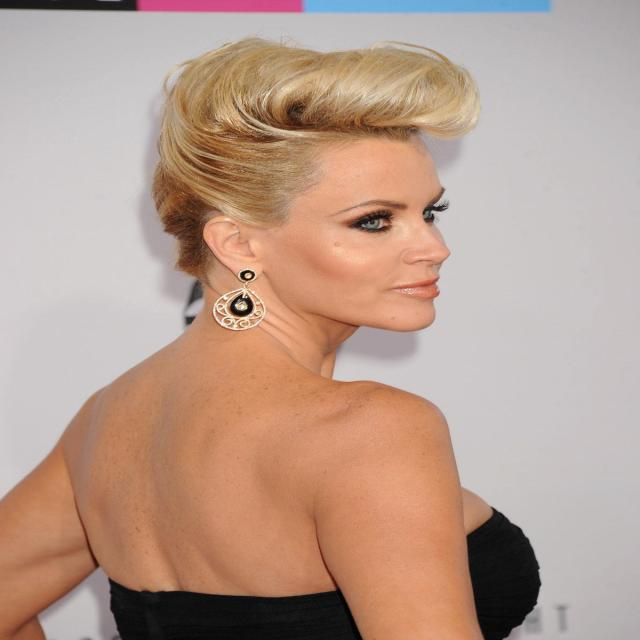no-earmuff: (184, 195, 291, 301)
